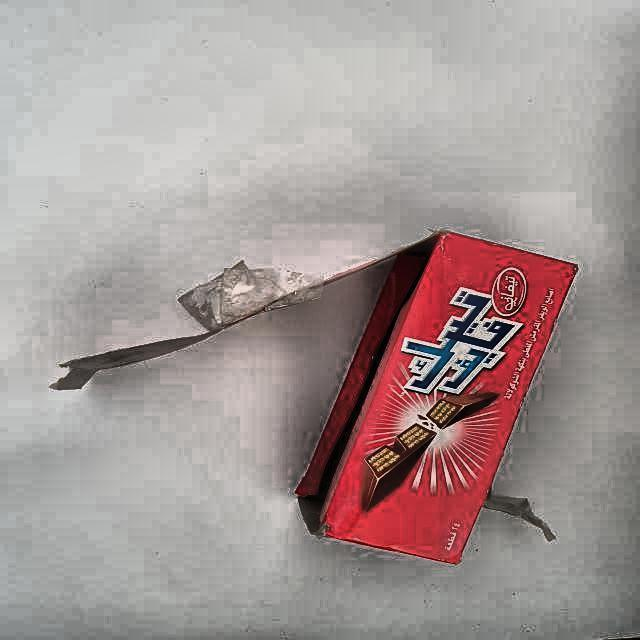cardboard: (51, 232, 577, 566)
